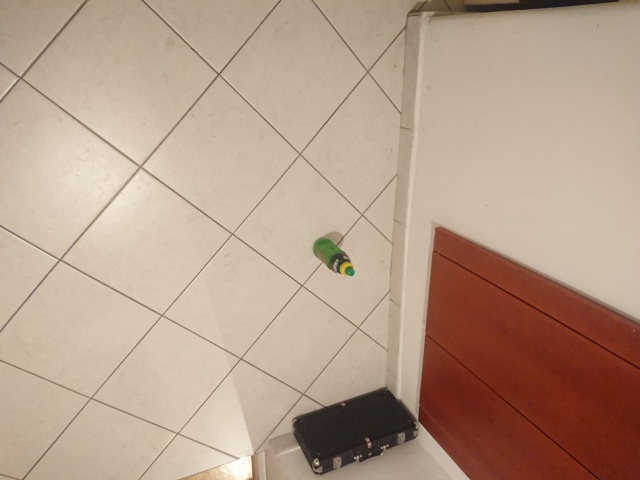Vindi Iso Sport Lemon-Grapefruit 500mL: (311, 236, 356, 278)
